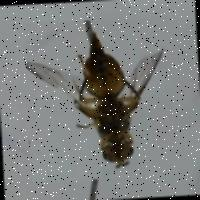Oriental-fruit-fly: (24, 16, 177, 182)
